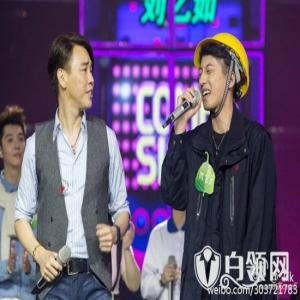none: (47, 31, 97, 120), (2, 106, 29, 171)
yellow: (195, 33, 251, 113)
